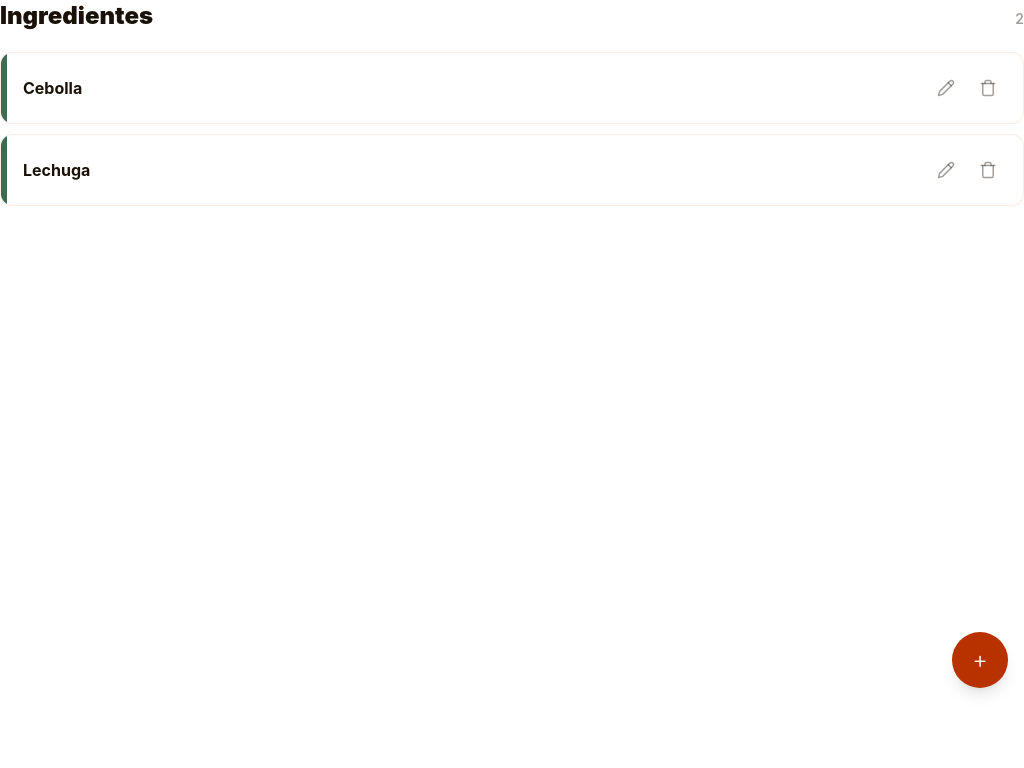
it: IngredientsPage › shows error alert dialog when removal fails
Expected: the text "Cebolla" is shown, [23,78,82,98]
Click the button named "Eliminar Cebolla" at (988, 88), box [969,69,1007,107]
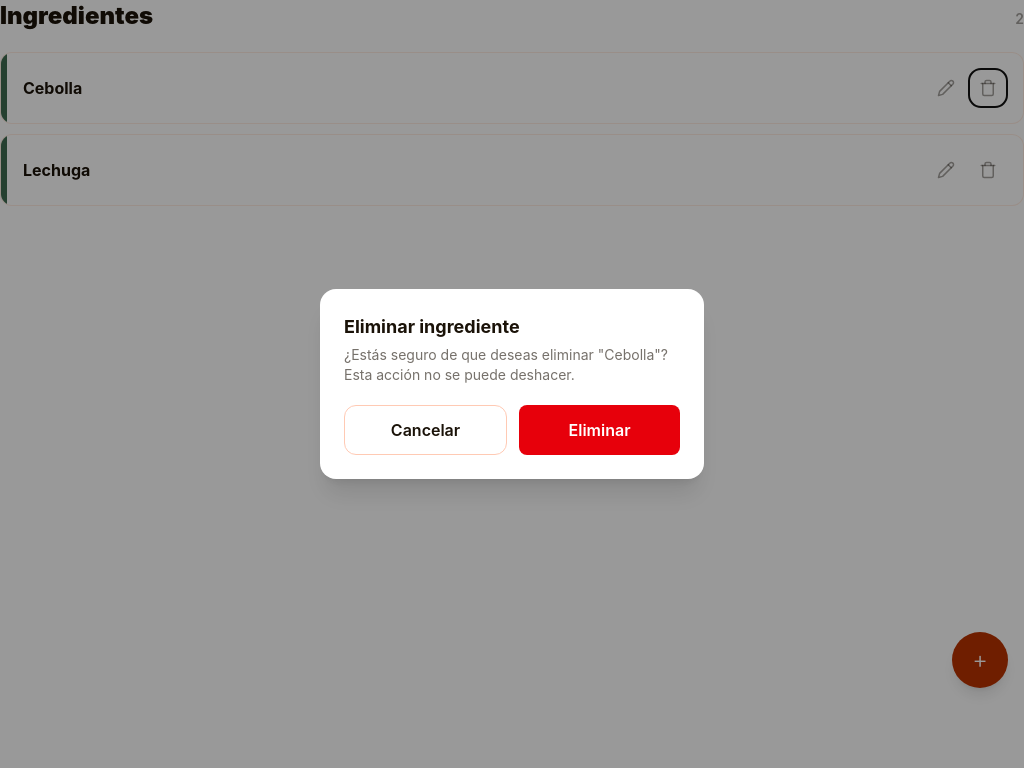
Click the button "Eliminar" at (600, 430), box [519,405,680,455]
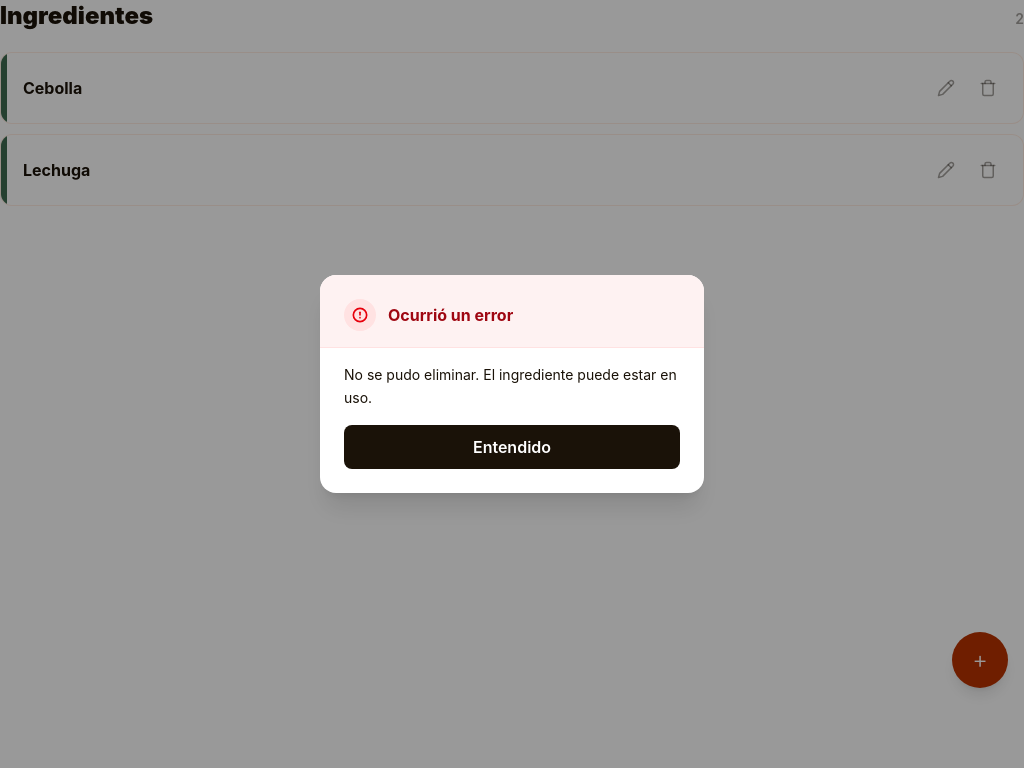
Expected: the text "No se pudo eliminar. El ingrediente puede estar en uso." is shown, [344,364,680,409]
